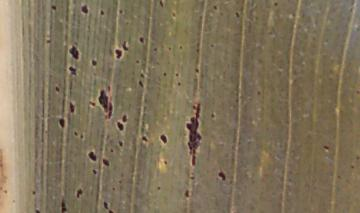tarspot: (184, 98, 205, 170), (97, 86, 115, 120), (67, 43, 82, 61), (158, 132, 171, 147), (87, 150, 100, 164), (58, 196, 68, 213), (86, 98, 98, 112), (57, 115, 67, 131), (67, 63, 77, 79), (100, 156, 112, 169), (216, 169, 227, 183), (73, 187, 84, 201), (183, 185, 191, 203), (114, 120, 125, 133), (66, 100, 76, 114), (114, 47, 123, 61), (321, 141, 332, 152), (79, 5, 91, 15), (89, 56, 98, 69), (122, 37, 129, 53), (140, 134, 150, 145), (116, 137, 126, 148), (210, 2, 221, 12), (136, 77, 145, 89), (100, 199, 110, 209), (52, 84, 61, 95), (29, 187, 38, 198), (232, 8, 241, 19), (121, 111, 130, 122), (51, 2, 58, 15), (136, 35, 146, 44), (193, 65, 202, 75), (271, 1, 282, 9), (209, 109, 216, 121), (173, 70, 182, 79), (90, 166, 98, 176), (155, 183, 163, 193), (133, 56, 141, 66), (175, 79, 183, 88), (160, 69, 168, 78), (98, 8, 105, 18), (32, 206, 41, 213), (72, 129, 79, 138), (162, 157, 169, 166), (159, 1, 165, 11), (118, 7, 123, 16)
